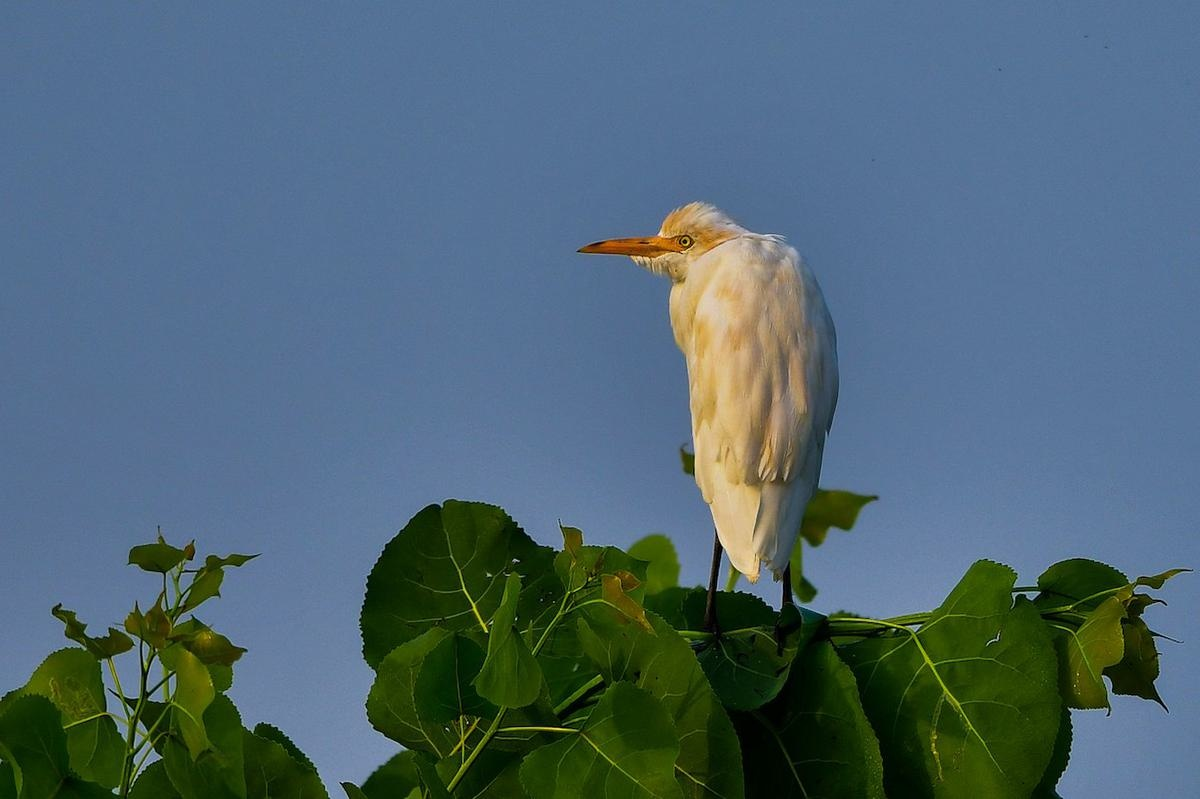egret: (569, 192, 881, 617)
